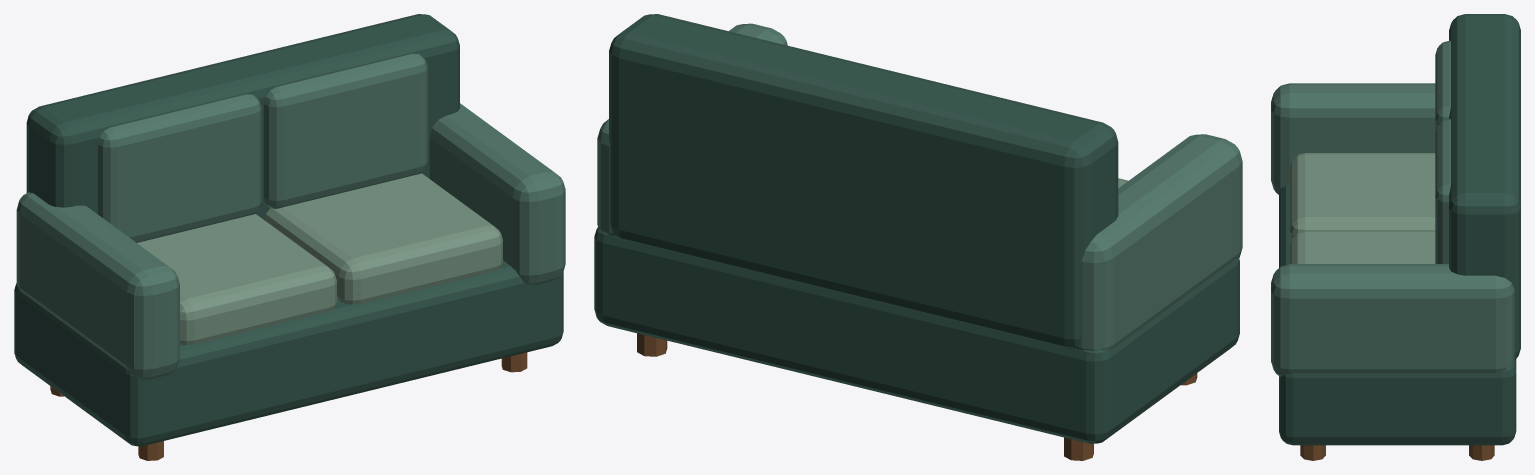
The model's file is sofa_two.glb.
The picture shows the model from 3 angles, left to right: view 1: azimuth 30°, elevation 25°; view 2: azimuth 150°, elevation 25°; view 3: azimuth 270°, elevation 25°; orthographic projection. The views are drawn at different scales.
Visible parts, largest first — view 1: sofa_two__green_velvet, sofa_two__green_shadow, sofa_two__green_edge, sofa_two__oak_dark; view 2: sofa_two__green_shadow, sofa_two__green_velvet, sofa_two__oak_dark; view 3: sofa_two__green_velvet, sofa_two__green_shadow, sofa_two__green_edge, sofa_two__oak_dark.
Part boxes in pixels (<box>): sofa_two__green_velvet: <box>16,53,565,379</box>; sofa_two__green_shadow: <box>14,14,563,446</box>; sofa_two__green_edge: <box>137,173,502,345</box>; sofa_two__oak_dark: <box>50,352,527,460</box>; sofa_two__green_shadow: <box>594,14,1239,443</box>; sofa_two__green_velvet: <box>597,23,1242,350</box>; sofa_two__oak_dark: <box>637,333,1197,460</box>; sofa_two__green_velvet: <box>1271,40,1514,376</box>; sofa_two__green_shadow: <box>1279,14,1520,445</box>; sofa_two__green_edge: <box>1289,153,1435,263</box>; sofa_two__oak_dark: <box>1300,445,1494,460</box>.
Bounding box in the file's own units: 1.55 × 0.94 × 0.8.
